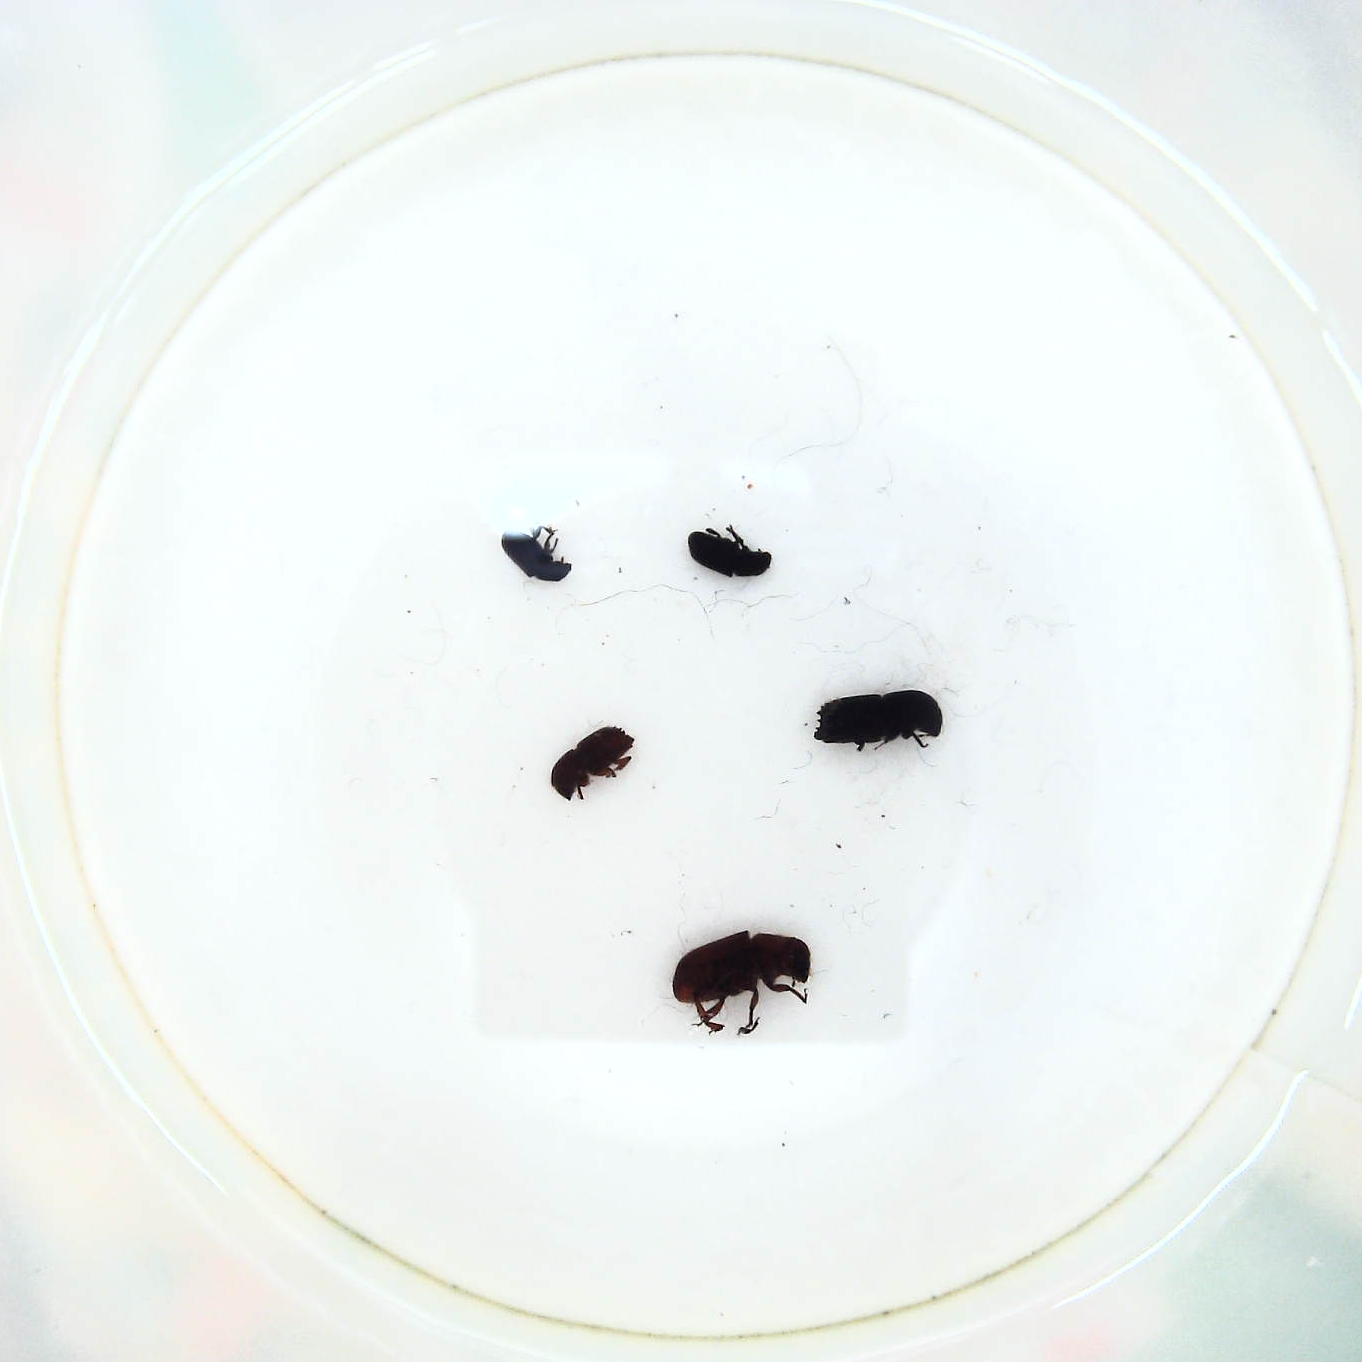Boerner: (811, 688, 950, 760)
Leconte: (672, 930, 816, 1040)
armandi: (683, 518, 775, 589)
coleoptera: (503, 523, 572, 591)
linnaeus: (545, 725, 642, 808)
